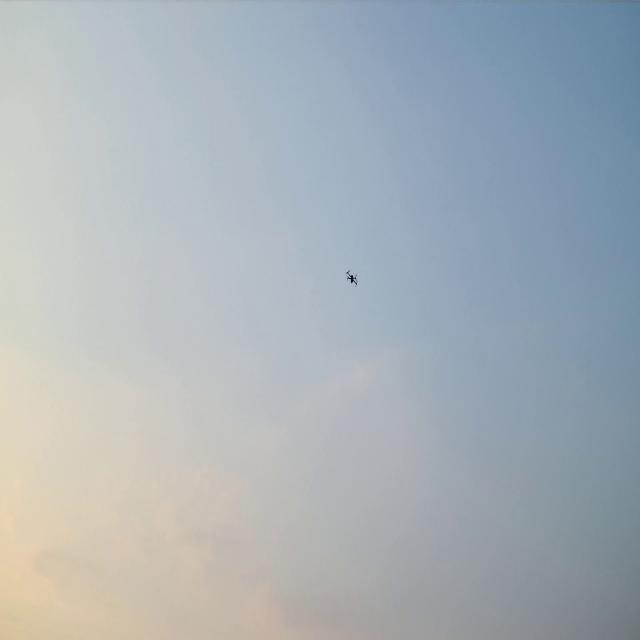UAV: (347, 271, 357, 285)
